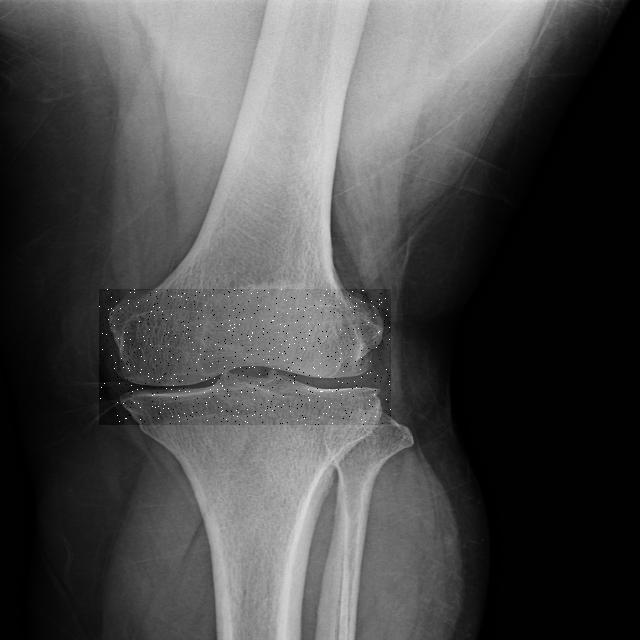osteo: (99, 289, 391, 425)
